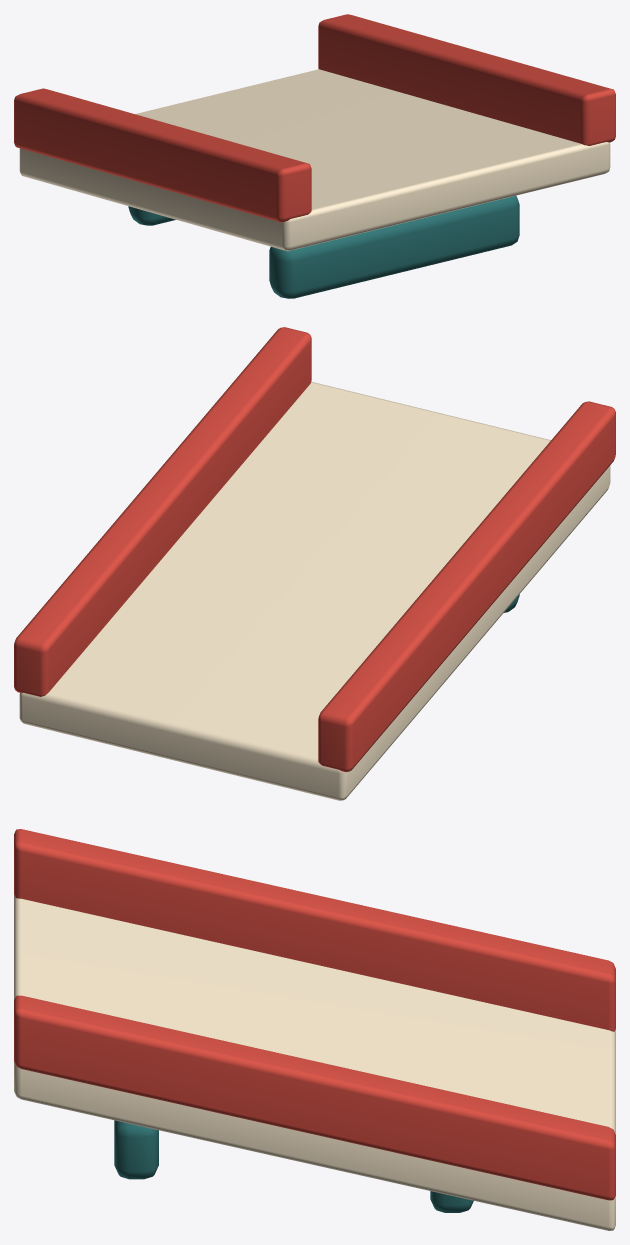
File: A17_TransitionSlope.fbx
3 views of the same model, one above another, from view 1: azimuth 30°, elevation 25°; view 2: azimuth 150°, elevation 25°; view 3: azimuth 270°, elevation 25° (orthographic). The views are drawn at different scales.
Visible parts, largest first — view 1: Vanilla wedge deck, Red side lips, Red side lips.001, Petrol stand edge, Petrol stand edge.001; view 2: Vanilla wedge deck, Red side lips, Red side lips.001; view 3: Vanilla wedge deck, Red side lips.001, Red side lips, Petrol stand edge, Petrol stand edge.001.
Part boxes in pixels (box(x1,y1,x2,y2)): Vanilla wedge deck: box(19, 69, 610, 251); Red side lips: box(14, 88, 311, 222); Red side lips.001: box(318, 14, 615, 145); Petrol stand edge: box(269, 195, 519, 298); Petrol stand edge.001: box(128, 206, 175, 225); Vanilla wedge deck: box(19, 381, 610, 800); Red side lips: box(318, 401, 615, 772); Red side lips.001: box(14, 327, 311, 696); Vanilla wedge deck: box(14, 894, 615, 1230); Red side lips.001: box(14, 995, 615, 1200); Red side lips: box(14, 829, 615, 1031); Petrol stand edge: box(114, 1120, 158, 1179); Petrol stand edge.001: box(430, 1191, 473, 1212).
Size of what is drawn, in the model's own units: 0.118 by 0.0695 by 0.162.
